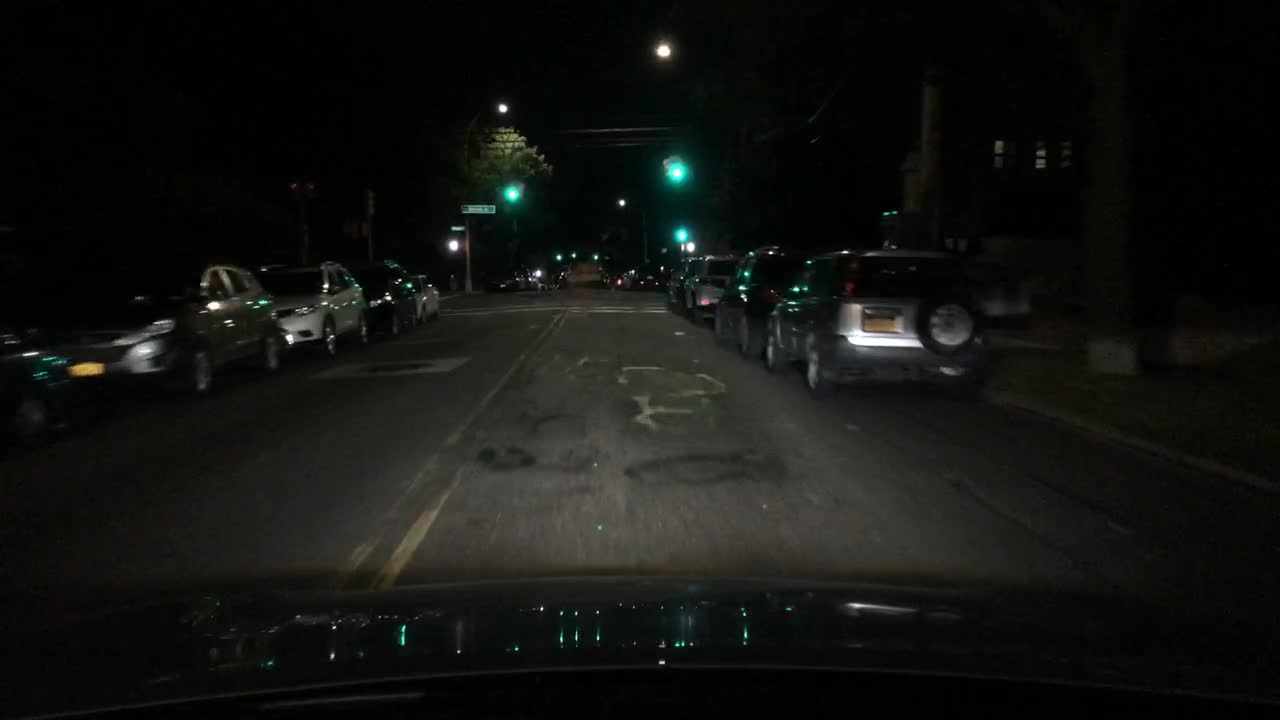car: (762, 243, 987, 403), (59, 260, 285, 397), (710, 247, 807, 357), (257, 260, 369, 353), (0, 320, 76, 440), (681, 254, 740, 327), (363, 255, 417, 334), (665, 255, 697, 309), (409, 272, 440, 320), (631, 275, 660, 290), (492, 275, 519, 291), (612, 271, 632, 288), (517, 275, 541, 288), (600, 271, 612, 284)
traffic light: (670, 158, 683, 182), (508, 187, 519, 203), (675, 224, 685, 241), (554, 251, 562, 260), (591, 252, 598, 261), (570, 249, 576, 259)
traffic sign: (461, 203, 495, 212), (451, 225, 465, 231)
